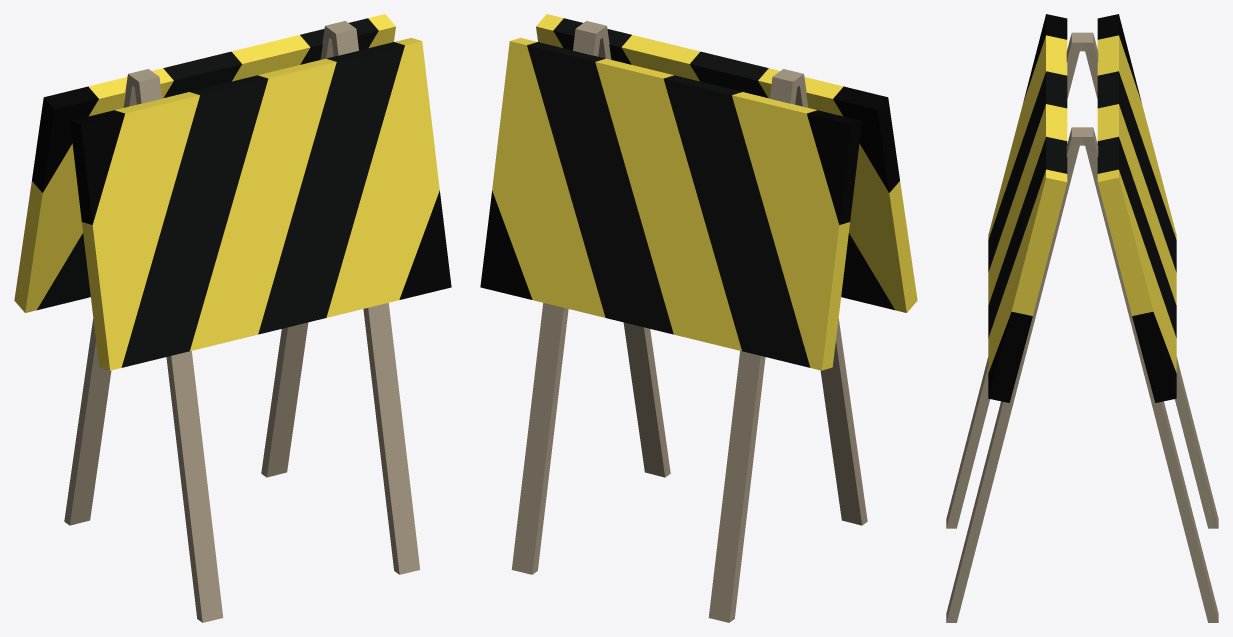
File: Wood_Road_Block_XSmall.glb
3 renders of one model, left to right at view 1: azimuth 30°, elevation 25°; view 2: azimuth 150°, elevation 25°; view 3: azimuth 270°, elevation 25°, orthographic.
Visible parts, largest first — view 1: Wood Road Block XSmall; view 2: Wood Road Block XSmall; view 3: Wood Road Block XSmall.
Part boxes in pixels (bbox=[...]): Wood Road Block XSmall: bbox=[14, 14, 451, 622]; Wood Road Block XSmall: bbox=[480, 14, 917, 622]; Wood Road Block XSmall: bbox=[946, 14, 1218, 622].
Bounding box in the file's own units: 4.25 × 5.88 × 2.99.
Materials: 1 (1 with a texture image).
